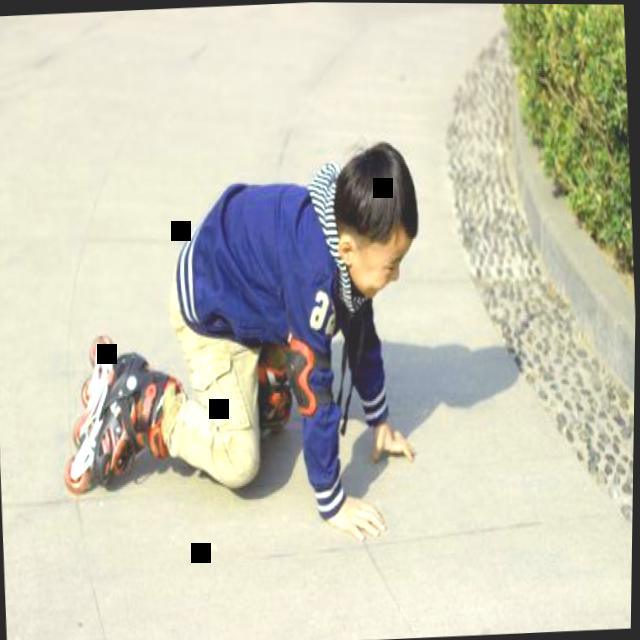Fall-Detected: (46, 117, 454, 569)
